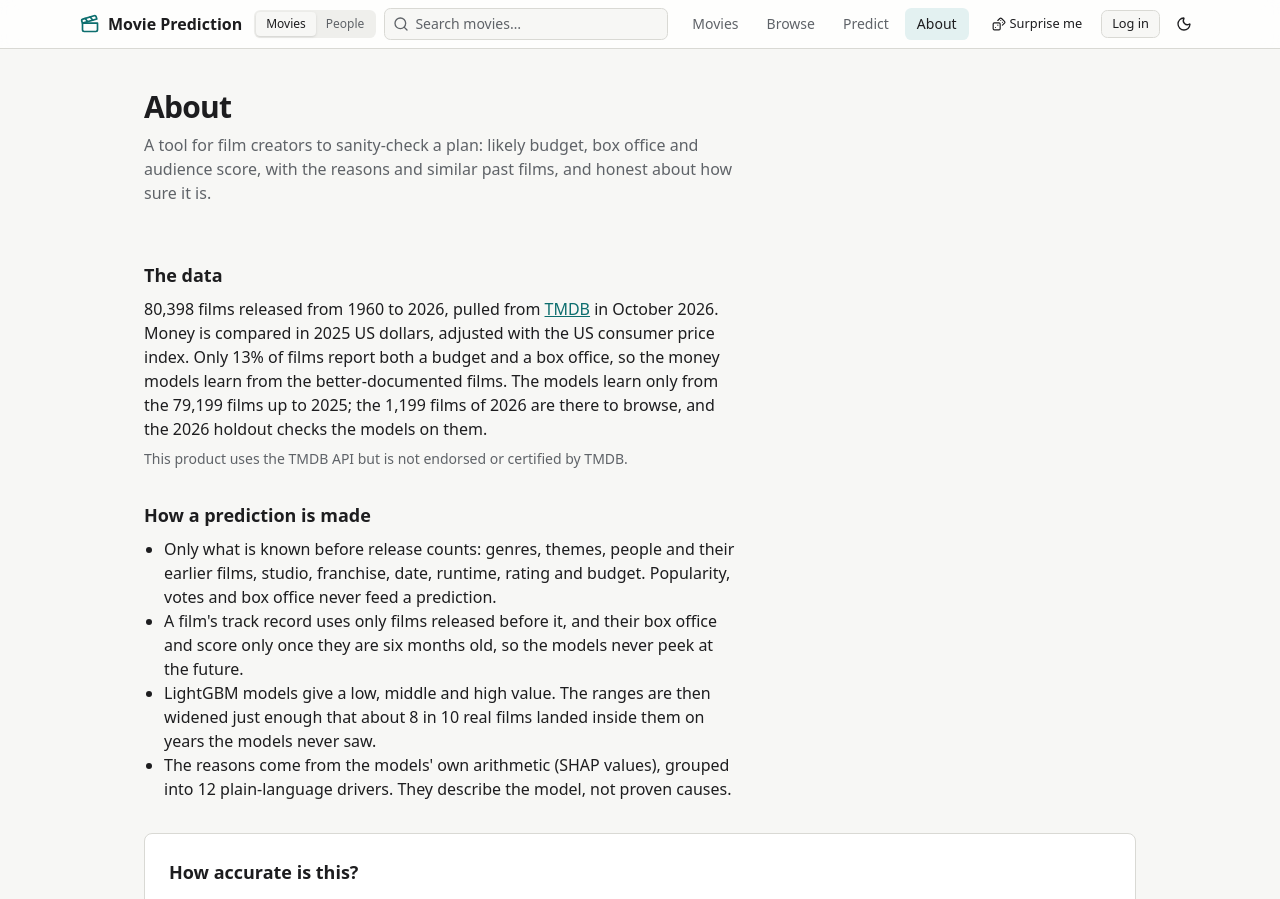
routes › the navigation moves between pages and marks the current one
This screenshot has width=1280, height=899.
Click the link "Predict" at (866, 24), box top-left (843, 14), bottom-right (889, 33)
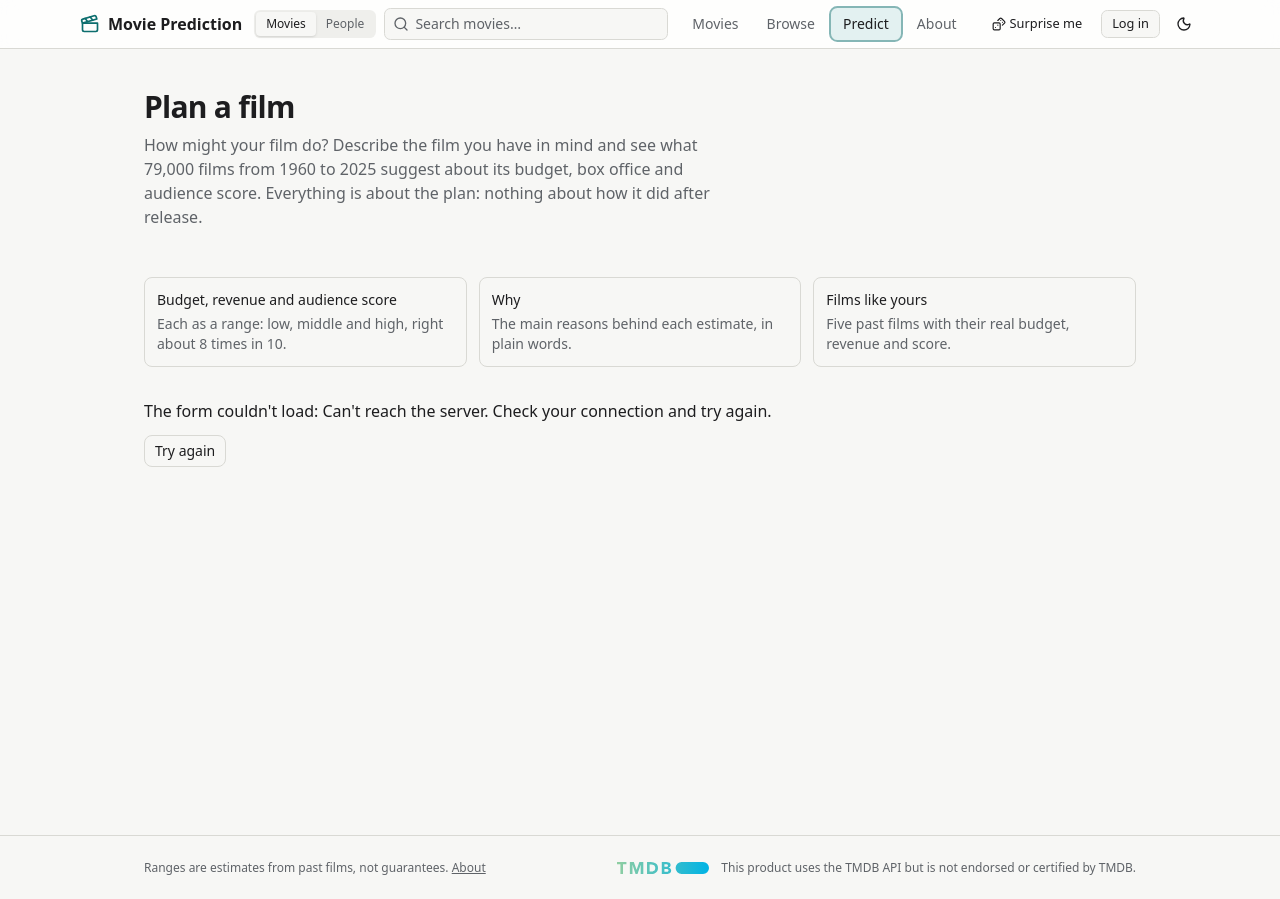
Result: the heading "Plan a film" is shown at top-left (144, 86), bottom-right (295, 127)
